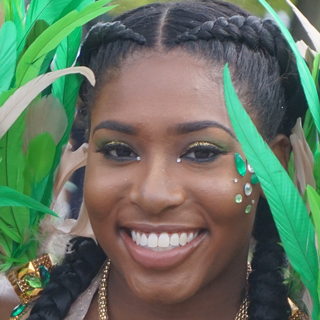eye: (172, 139, 231, 172), (93, 135, 147, 168)
